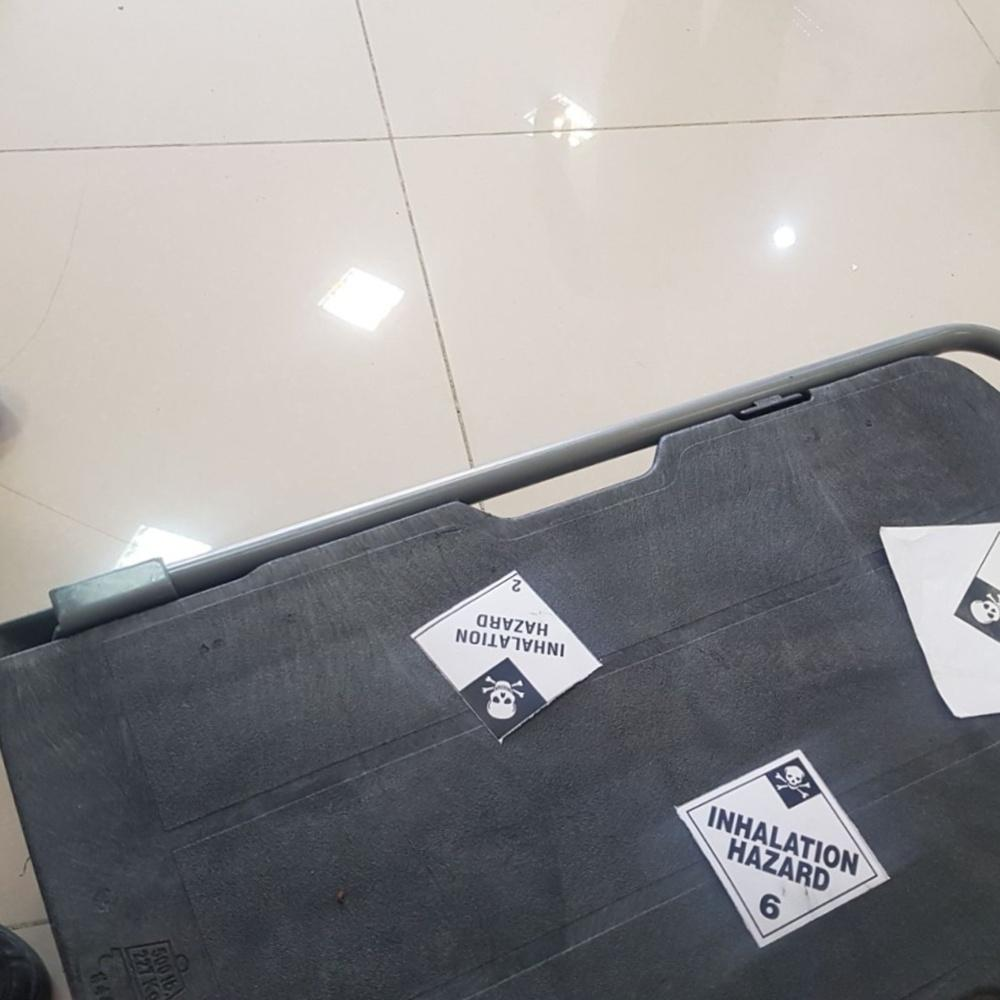poison: (658, 742, 909, 957), (398, 567, 618, 742), (944, 523, 1000, 672)
